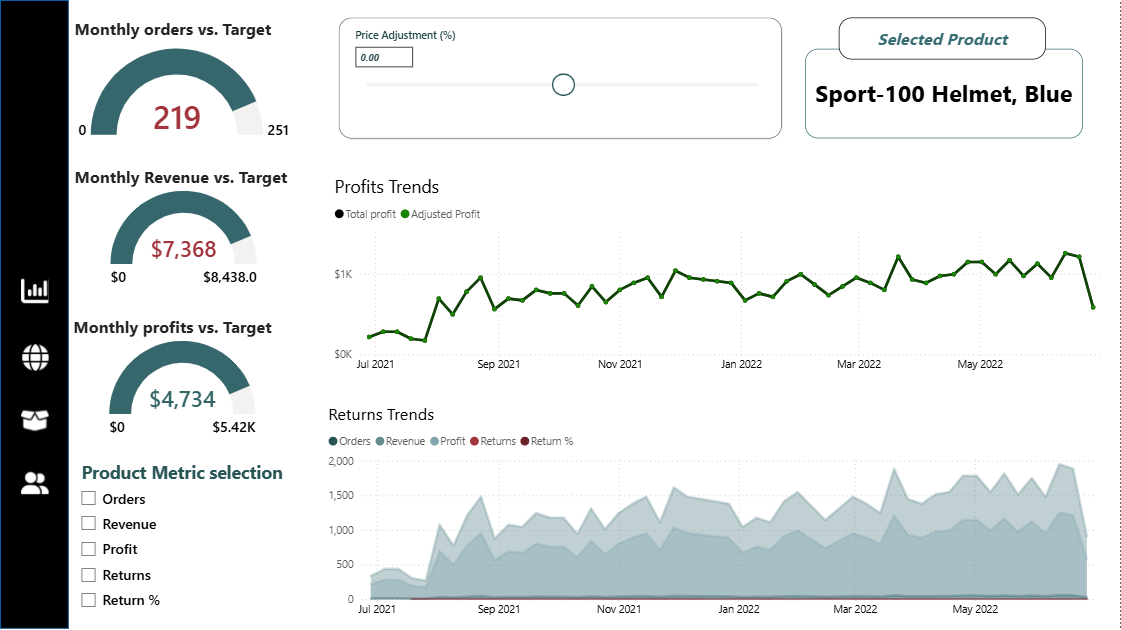

The dashboard page shown, as its layout file describes it:
{"tool":"powerbi","page":{"name":"Product detail","canvas":[1280,720],"ordinal":2},"visuals":[{"type":"gauge","title":"Monthly orders vs. Target","fields":{"Y":["Measure table.Total orders"],"MaxValue":["Measure table.order Target"]},"box":[80,20,260,150],"z":0},{"type":"card","fields":{"Values":["Min(Product Lookup.ProductName)"]},"box":[920,56.2,317.2,102.1],"z":0,"group":"g1"},{"type":"actionButton","box":[20,300,39.6,65.2],"z":0,"group":"g2"},{"type":"textbox","box":[959.2,20,237.1,47.7],"z":1000,"group":"g1"},{"type":"gauge","title":"Monthly Revenue vs. Target","fields":{"Y":["Measure table.Total revenue"],"MaxValue":["Measure table.Revenue Target"]},"box":[80,188.7,260,150],"z":1000},{"type":"actionButton","box":[20,452.4,39.6,55.8],"z":1000,"group":"g2"},{"type":"gauge","title":"Monthly profits vs. Target","fields":{"Y":["Measure table.Total profit"],"MaxValue":["Measure table.profit Target"]},"box":[78.3,360,260,150],"z":2000},{"type":"actionButton","box":[20,524.5,39.6,55.8],"z":2000,"group":"g2"},{"type":"lineChart","title":"Profits Trends","fields":{"Category":["Calendar Lookup.Date Hierarchy.Start of Year","Calendar Lookup.Date Hierarchy.Start of Month","Calendar Lookup.Date Hierarchy.Start of Week","Calendar Lookup.Date Hierarchy.Date"],"Y":["Measure table.Total profit","Price Adjustment (%).Adjusted Profit"]},"box":[376.7,198.3,903.3,236.7],"z":3000},{"type":"actionButton","box":[20.7,381.5,38.2,54.7],"z":3000,"group":"g2"},{"type":"areaChart","title":"Returns Trends","fields":{"Y":["Measure table.Total orders","Measure table.Total revenue","Measure table.Total profit","Measure table.Total returns","Measure table.Return rate"],"Category":["Calendar Lookup.Date Hierarchy.Start of Week"]},"box":[370,460,903.3,255],"z":4000},{"type":"shape","title":"Navigation panel","box":[0,0,78.6,718.6],"z":5000},{"type":"slicer","fields":{"Values":["Price Adjustment (%).Price Adjustment (%)"]},"box":[386.7,20,506.7,138.3],"z":6000},{"type":"slicer","fields":{"Values":["Product Metric selection.Product Metric selection"]},"box":[80,521.7,280,190],"z":7000},{"type":"group","id":"g1","title":"Group 1","box":[920,20,318.3,138.3],"z":8000},{"type":"group","id":"g2","title":"Navigation Buttons","box":[20,300,40,280],"z":9000}]}

Visuals, with their boxes in screenshot pixels (x1, y1, x2, y2), scaled from the page's 1280x720 canvas onto the 1121x630 screenshot:
"Monthly orders vs. Target" gauge: [left=70, top=18, right=298, bottom=149]
card - Min(Product Lookup.ProductName): [left=806, top=49, right=1084, bottom=139]
actionButton: [left=18, top=262, right=52, bottom=320]
textbox: [left=840, top=18, right=1048, bottom=59]
"Monthly Revenue vs. Target" gauge: [left=70, top=165, right=298, bottom=296]
actionButton: [left=18, top=396, right=52, bottom=445]
"Monthly profits vs. Target" gauge: [left=69, top=315, right=296, bottom=446]
actionButton: [left=18, top=459, right=52, bottom=508]
"Profits Trends" lineChart: [left=330, top=174, right=1120, bottom=381]
actionButton: [left=18, top=334, right=52, bottom=382]
"Returns Trends" areaChart: [left=324, top=402, right=1115, bottom=626]
"Navigation panel" shape: [left=0, top=0, right=69, bottom=629]
slicer - Price Adjustment (%).Price Adjustment (%): [left=339, top=18, right=782, bottom=139]
slicer - Product Metric selection.Product Metric selection: [left=70, top=456, right=315, bottom=623]
"Group 1" group: [left=806, top=18, right=1084, bottom=139]
"Navigation Buttons" group: [left=18, top=262, right=53, bottom=508]
